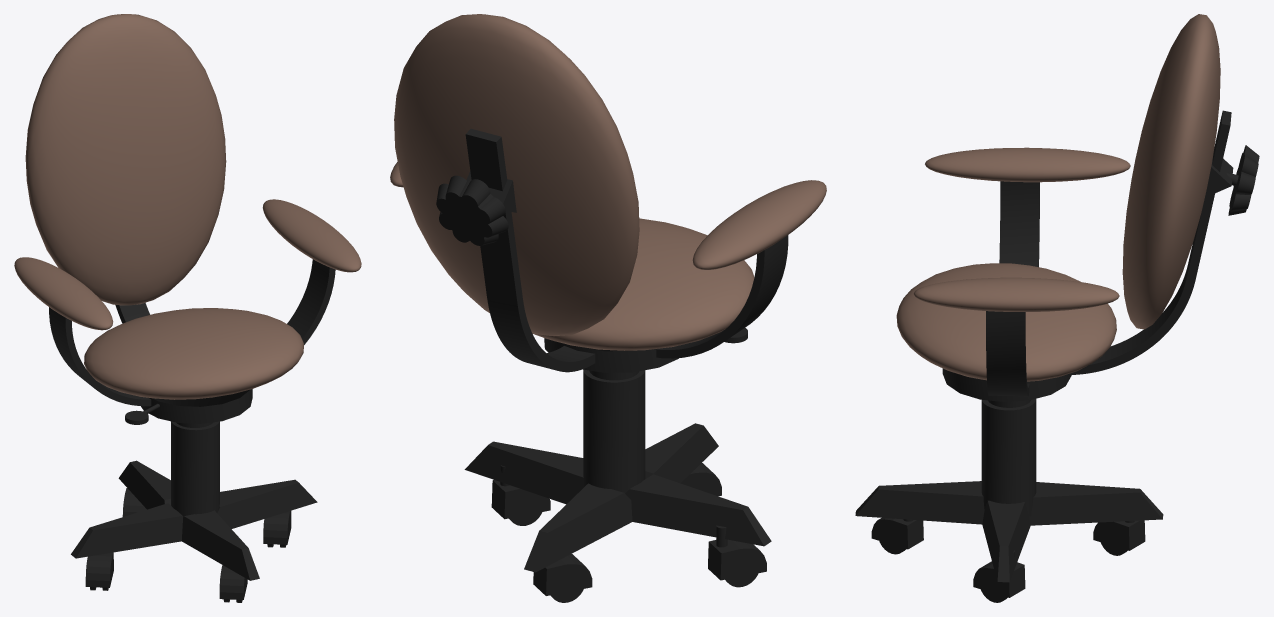
File: officeChair2.glb
3 views of the same model, side by side, from view 1: azimuth 30°, elevation 25°; view 2: azimuth 150°, elevation 25°; view 3: azimuth 270°, elevation 25° (orthographic). The views are drawn at different scales.
Parts seen in each view (by area): view 1: officeChair2; view 2: officeChair2; view 3: officeChair2.
Part boxes in pixels (<box>): officeChair2: <box>14,14,361,602</box>; officeChair2: <box>390,14,826,602</box>; officeChair2: <box>855,14,1259,602</box>.
Bounding box in the file's own units: 0.6288 × 1.01 × 0.6882.
